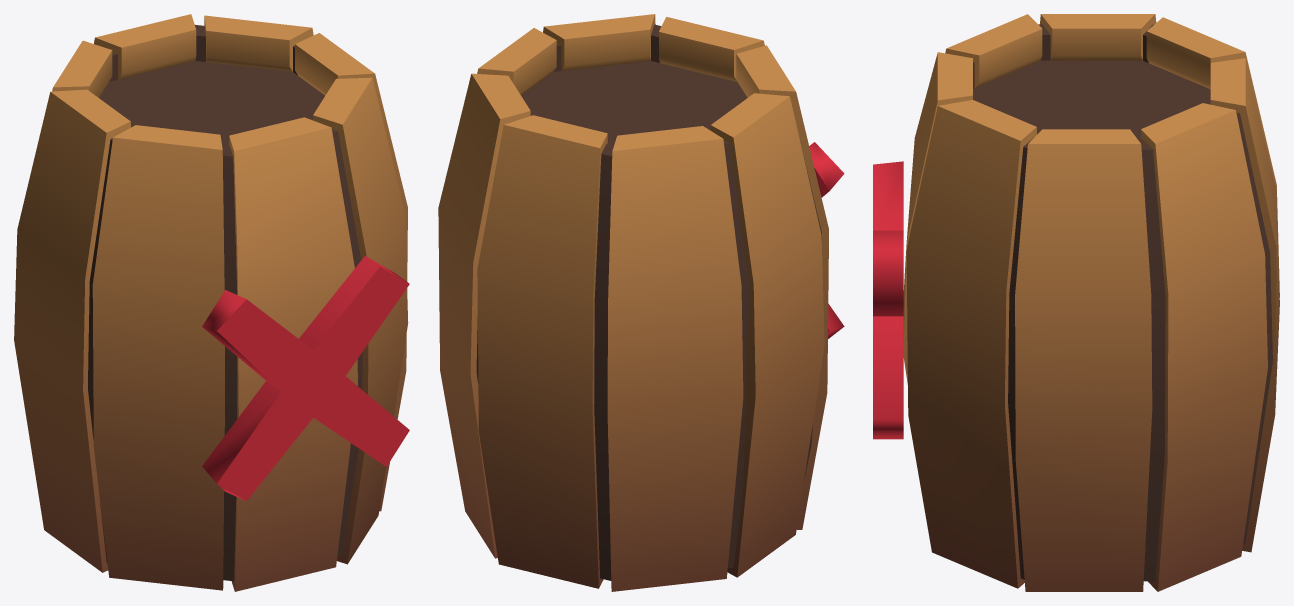
3 renders of one model, left to right at view 1: azimuth 30°, elevation 25°; view 2: azimuth 150°, elevation 25°; view 3: azimuth 270°, elevation 25°, orthographic.
Parts seen in each view (by area): view 1: LOD 1_4746937021995407784_ff341511bebd94b45835b85c6ba3315b; view 2: LOD 1_4746937021995407784_ff341511bebd94b45835b85c6ba3315b; view 3: LOD 1_4746937021995407784_ff341511bebd94b45835b85c6ba3315b.
Part boxes in pixels (left/top/right/bottom): LOD 1_4746937021995407784_ff341511bebd94b45835b85c6ba3315b: left=14, top=14, right=409, bottom=591; LOD 1_4746937021995407784_ff341511bebd94b45835b85c6ba3315b: left=438, top=14, right=844, bottom=591; LOD 1_4746937021995407784_ff341511bebd94b45835b85c6ba3315b: left=873, top=14, right=1279, bottom=591.
Size of the model in its own units: 0.7621 by 0.995 by 0.8237.
